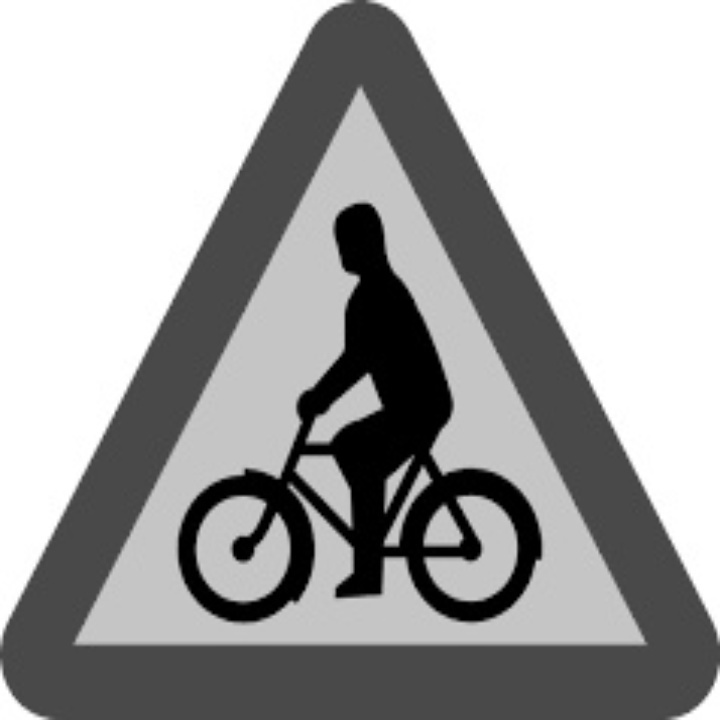bicycle: (167, 375, 587, 657)
